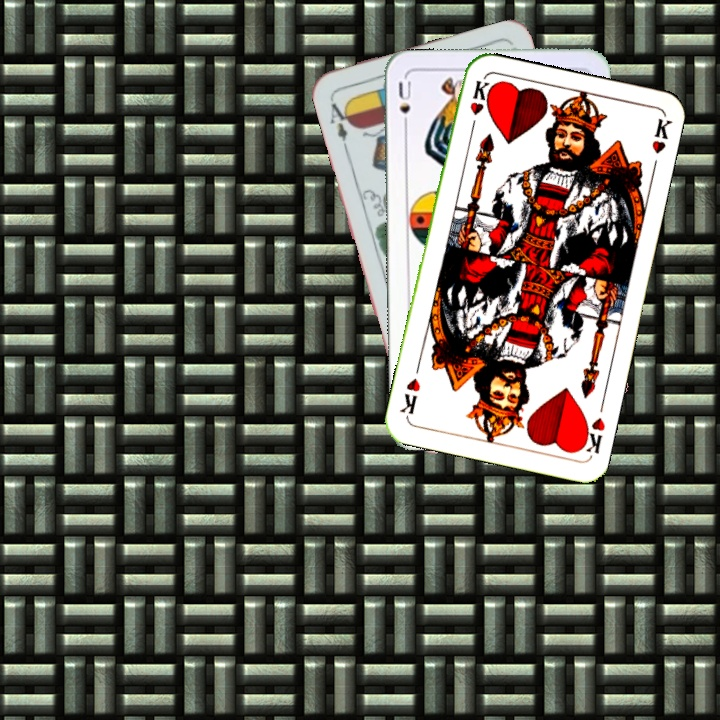EA: (326, 94, 356, 152)
HK: (465, 76, 492, 135), (575, 413, 608, 456)
SU: (394, 77, 414, 134)
